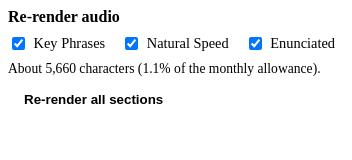
RerenderAudio › re-prices when a section is unticked, naming the rest in lesson order
Click the checkbox labelled "Natural Speed". click: click(132, 44)
box: [125,37,138,50]
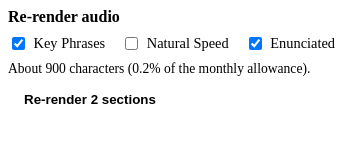
Check: the text "About 900 characters (0.2% of the monthly allowance)." is shown, box [8,61,310,76]
Check: the button "Re-render 2 sections" is shown, box [8,85,172,114]
